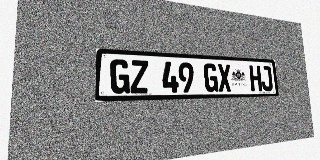4: (162, 61, 179, 93)
9: (178, 62, 194, 93)
G: (110, 59, 130, 94), (203, 63, 218, 92)
H: (249, 65, 262, 91)
J: (260, 66, 273, 91)
X: (217, 64, 232, 92)
Z: (130, 60, 149, 93)
